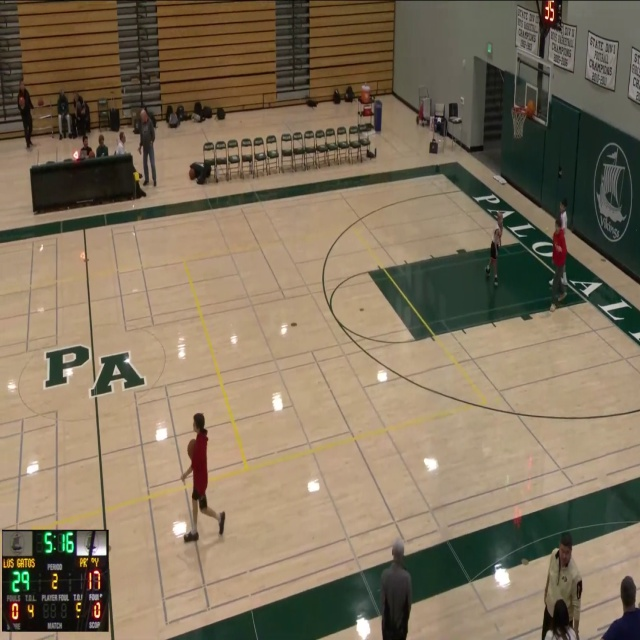Basketball: (526, 100, 536, 117)
